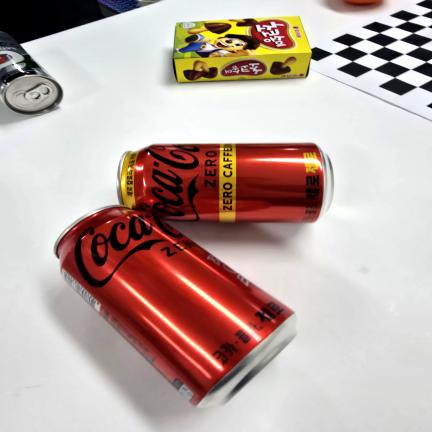can_coke_decaf: (117, 141, 333, 224)
can_coke_zero: (49, 206, 297, 410)
